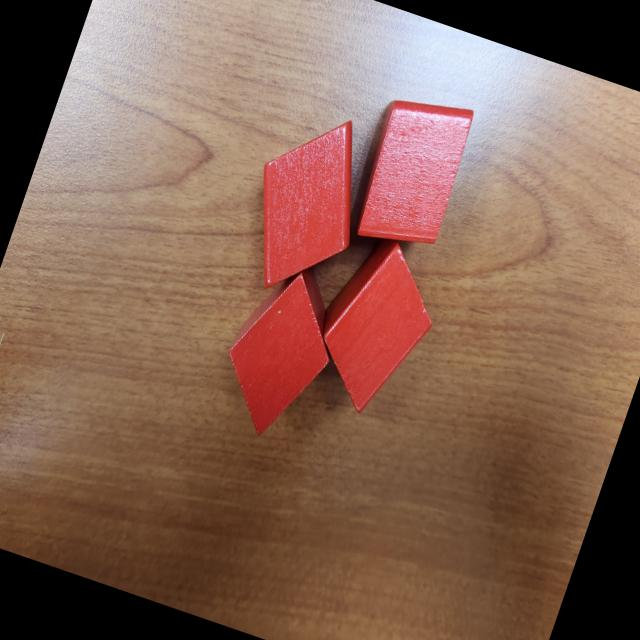red: (227, 99, 388, 305), (298, 225, 454, 424), (207, 253, 356, 448), (340, 83, 480, 264)
